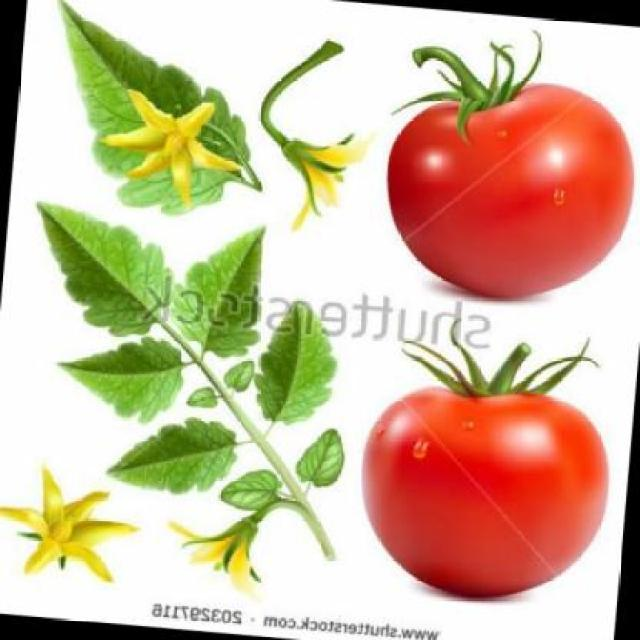Healthy Leaf: (146, 210, 297, 378), (18, 182, 182, 332), (0, 325, 214, 426), (243, 284, 352, 448), (82, 405, 240, 503)
